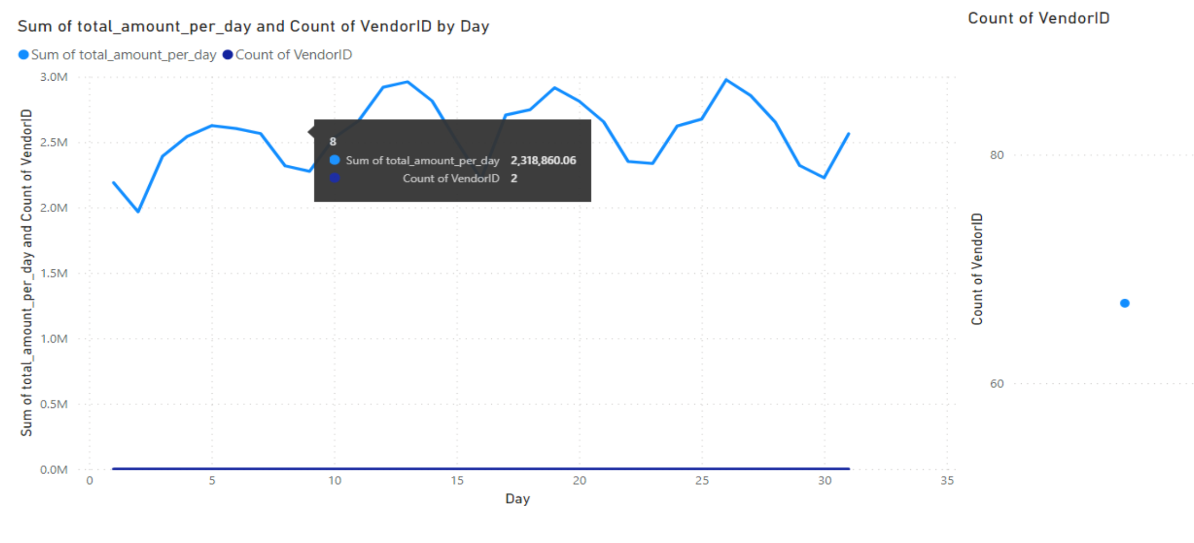

This screenshot's page, from the dashboard's own definition file:
{"tool":"powerbi","page":{"name":"TTL AMOUNT PER DAY","canvas":[1280,720],"ordinal":0},"visuals":[{"type":"lineChart","fields":{"Category":["ttl_amount_per_day.pickup_date.Variation.Date Hierarchy.Day"],"Y":["Sum(ttl_amount_per_day.total_amount_per_day)","CountNonNull(ttl_amount_per_day.VendorID)"]},"box":[62.5,101.1,898.7,507.2],"z":0},{"type":"lineChart","fields":{"Y":["CountNonNull(ttl_amount_per_day.VendorID)"]},"box":[961.1,92.8,262.8,507.2],"z":1}]}

Visuals, with their boxes on the page's 1280x720 design canvas (x1, y1, x2, y2). These are canvas units, not pixel positions in the 1194x543 screenshot, which may show the page scaled, cropped or inside an application window:
lineChart - ttl_amount_per_day.pickup_date.Variation.Date Hierarchy.Day x Sum(ttl_amount_per_day.total_amount_per_day): (x1=62, y1=101, x2=961, y2=608)
lineChart - CountNonNull(ttl_amount_per_day.VendorID): (x1=961, y1=93, x2=1224, y2=600)
